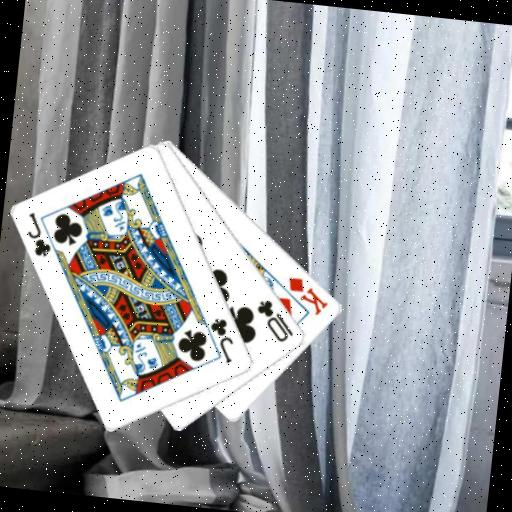10C: (251, 296, 300, 346)
JC: (203, 314, 238, 366), (22, 208, 57, 259)
KD: (282, 273, 332, 318)
